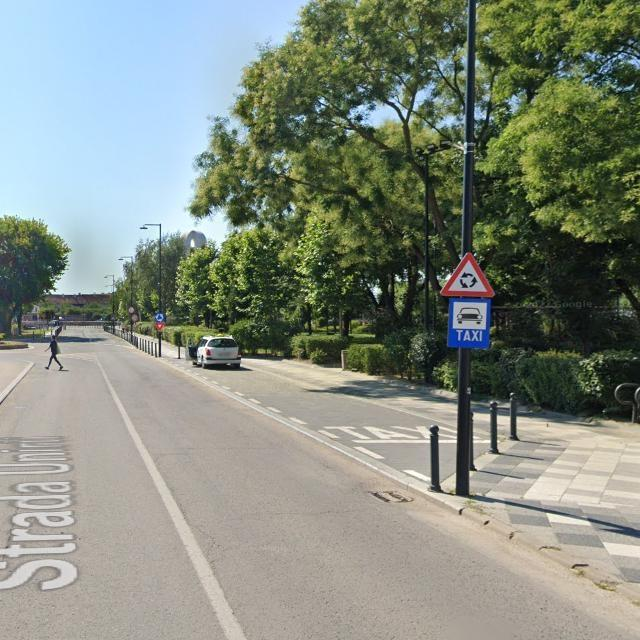prio_give_way: (155, 322, 166, 332)
